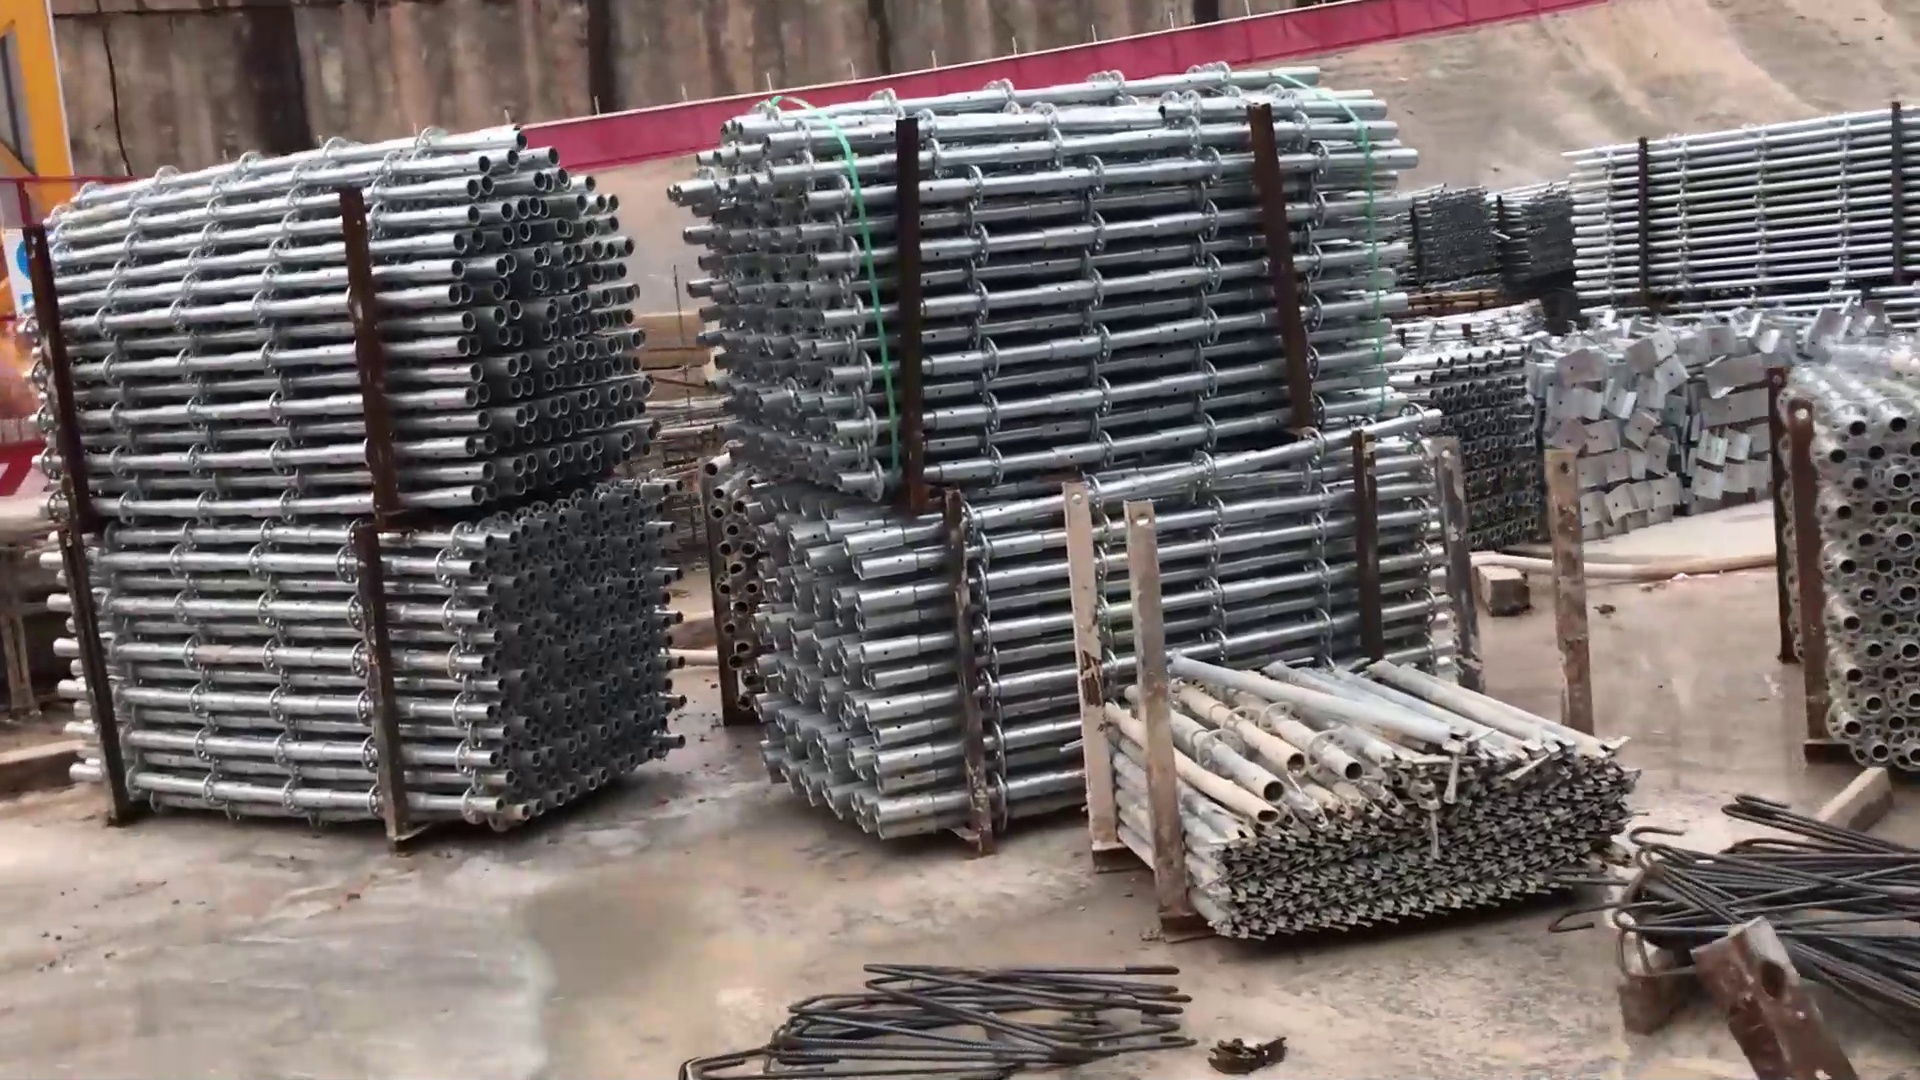rebar: (1580, 783, 1920, 1021), (680, 942, 1200, 1075)
scaffold: (665, 78, 1466, 655), (42, 127, 676, 843), (1084, 645, 1640, 948), (1478, 315, 1782, 553), (1567, 109, 1913, 293), (1782, 352, 1920, 775), (1403, 181, 1564, 293)
